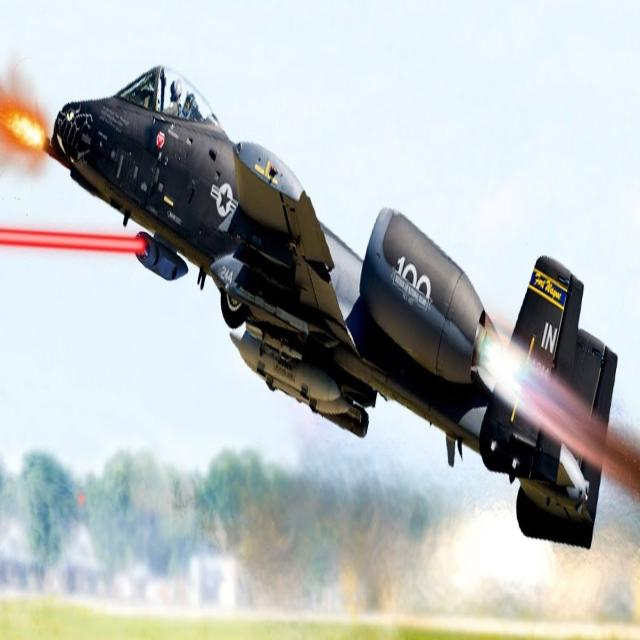A10: (17, 41, 623, 569)
